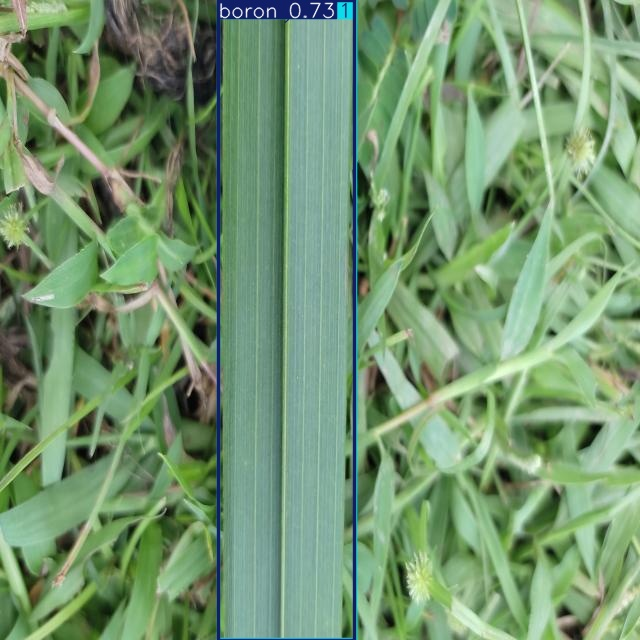Healthy: (218, 0, 356, 640)
nitrogen: (218, 0, 355, 640)
